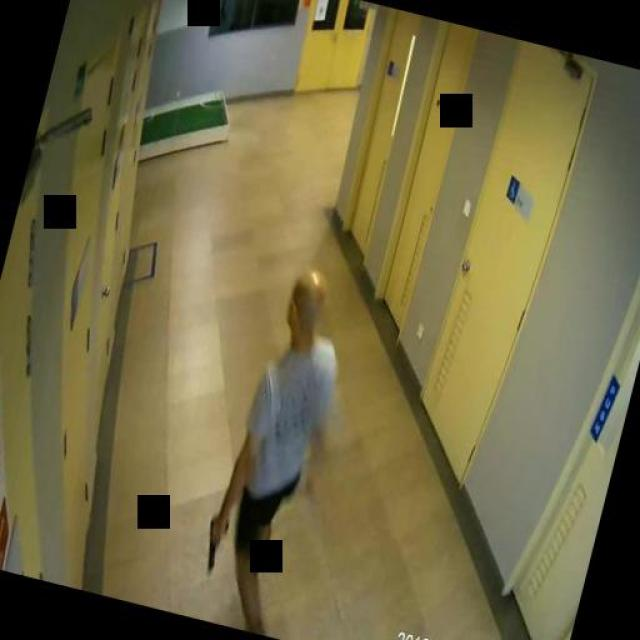gun: (199, 512, 229, 572)
